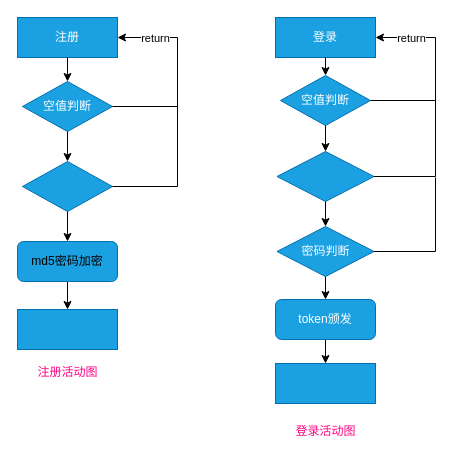
This 461x458 diagram has some shape labels left out. Each missing label, with the centre of its shape:
"注册成功" goes at [67,329].
"用户名存在判断" goes at [325,176].
"登录成功" goes at [325,383].
"重复名判断" goes at [67,186].
